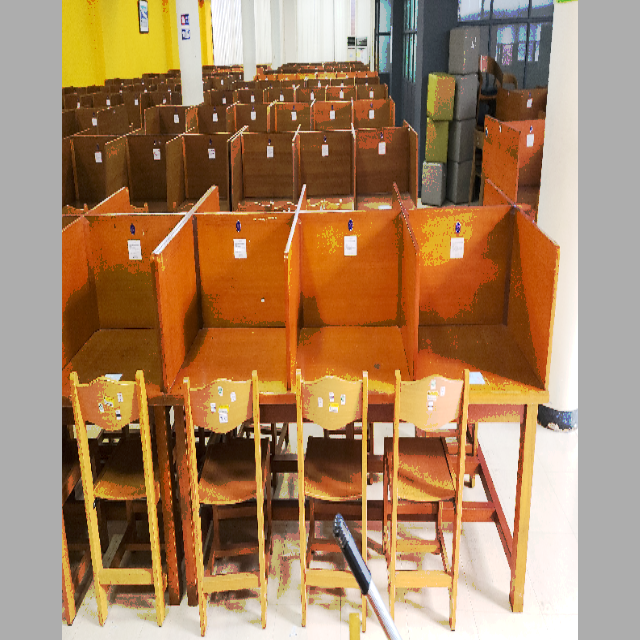empty: (423, 223, 556, 488), (161, 225, 284, 499), (290, 222, 416, 477)
